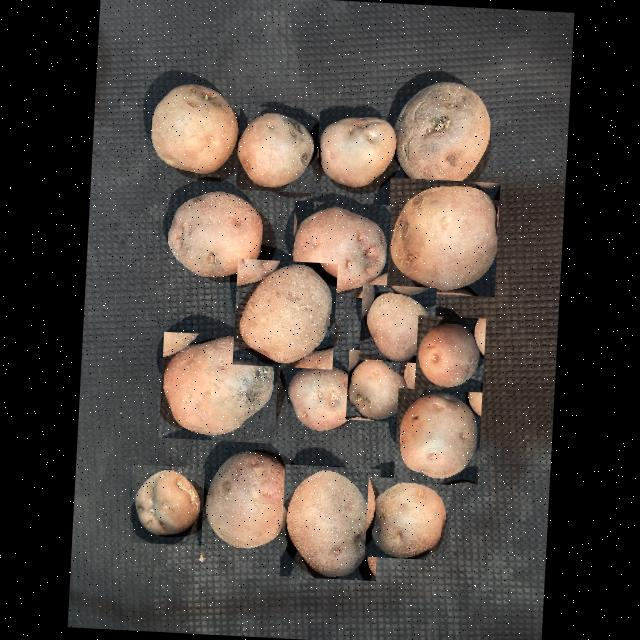Diseased-fungal potato: (384, 177, 499, 297), (158, 332, 279, 444), (389, 78, 498, 192), (278, 464, 381, 582), (232, 258, 337, 369), (198, 444, 294, 556), (289, 200, 390, 300), (145, 78, 243, 180), (162, 187, 268, 280), (392, 388, 482, 486), (364, 476, 452, 562), (235, 105, 319, 194), (312, 106, 394, 193), (282, 362, 364, 439), (358, 284, 436, 364), (128, 464, 204, 546), (414, 316, 486, 392), (344, 350, 416, 423)
